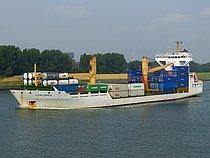Ship: (9, 35, 206, 112)
